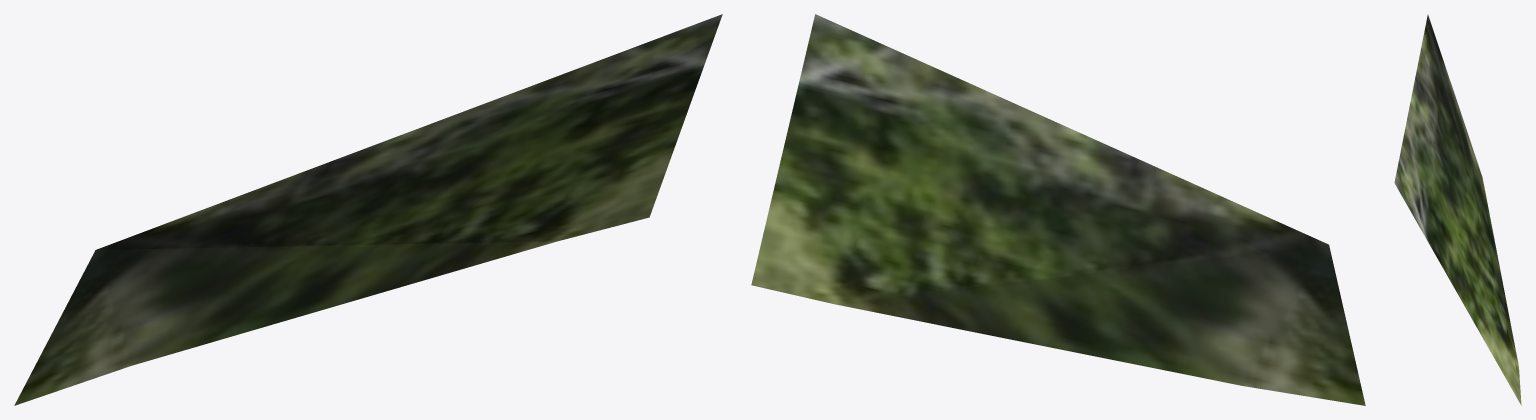
3 views of the same model, side by side, from view 1: azimuth 30°, elevation 25°; view 2: azimuth 150°, elevation 25°; view 3: azimuth 270°, elevation 25° (orthographic). The views are drawn at different scales.
Size of the model in its own units: 15.49 by 5.68 by 2.94.
Materials: 1 (1 with a texture image).
